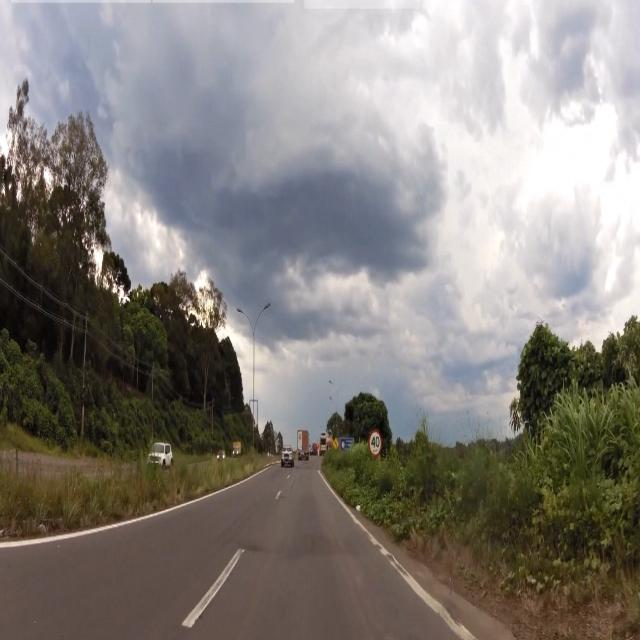R-19: (369, 428, 382, 456)
